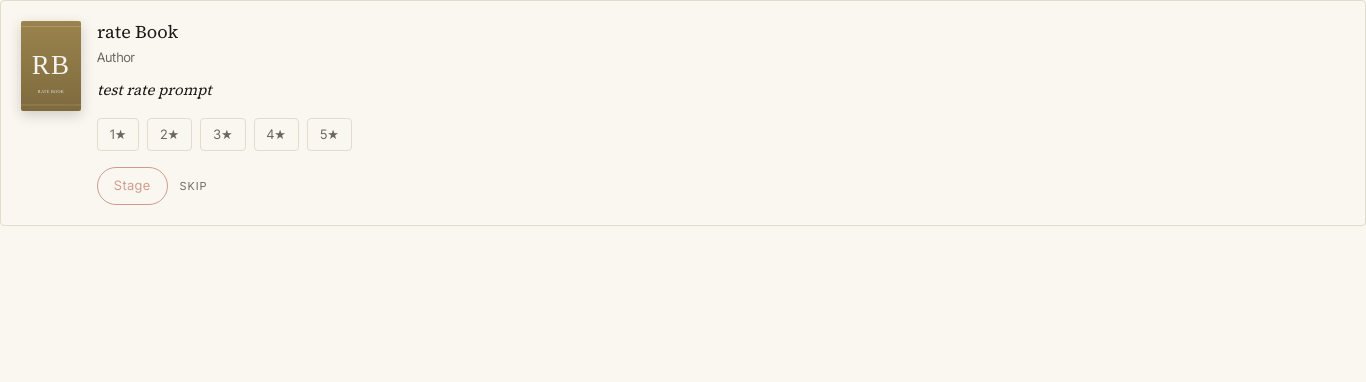
Test: BackfillCards — staging UI › rolls staged cards back to staged on a Send-all failure and surfaces the error
Click the button named "4 stars". click: (276, 134)
box: [254, 118, 299, 151]
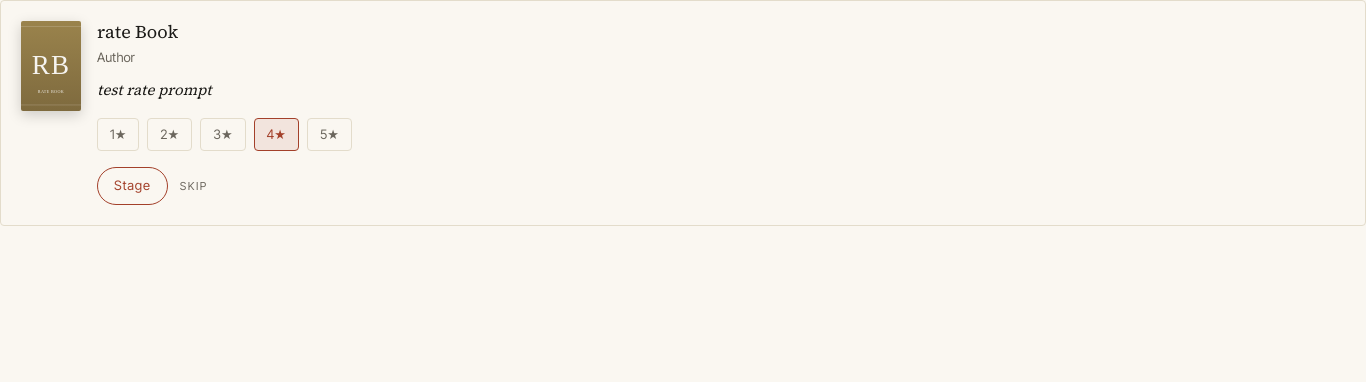
Click the button "Stage". click: (132, 186)
box: [97, 167, 168, 204]
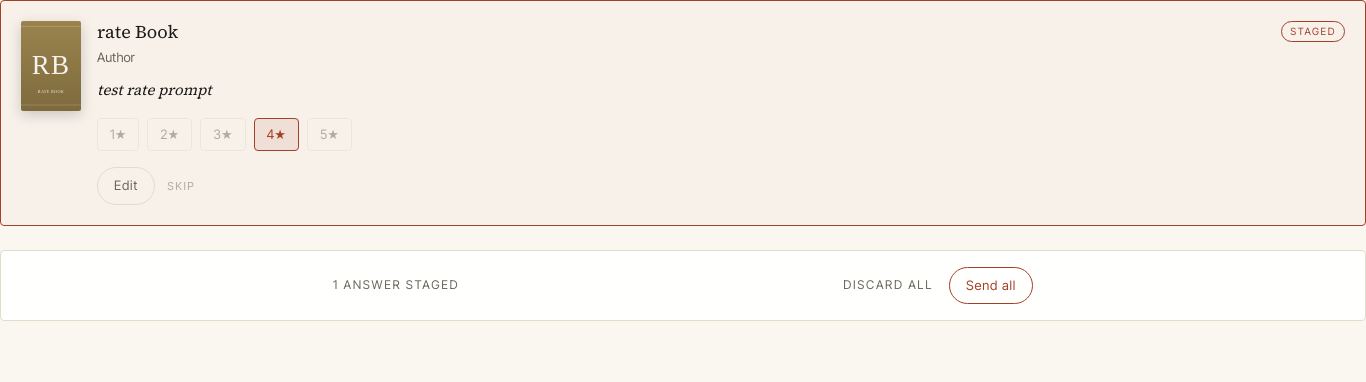
Click the button "Send all". click: (991, 285)
box: [949, 266, 1033, 304]
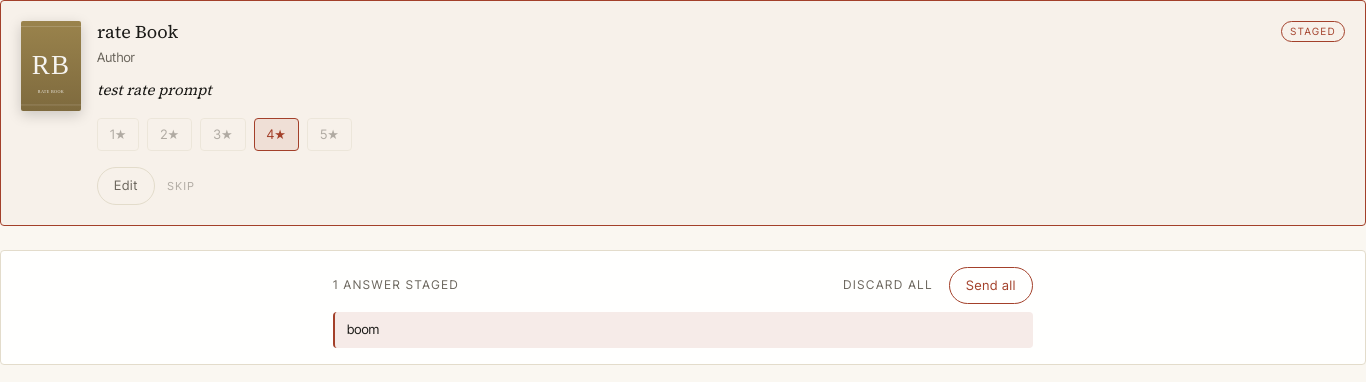
Expected: the text "staged" is shown, [1281, 21, 1345, 42]
Expected: the text "1 answer staged" is shown, [333, 276, 459, 294]
Expected: the message reads "boom", [347, 321, 379, 337]
